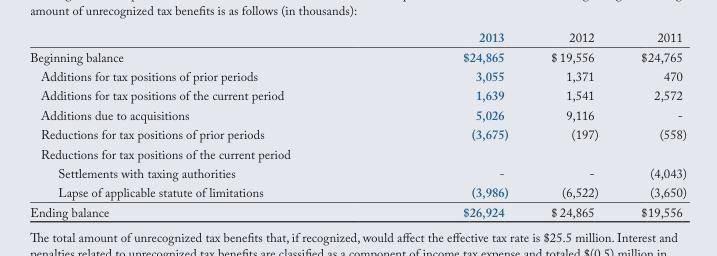table: (29, 28, 685, 224)
table column: (29, 28, 372, 224), (372, 28, 529, 224), (529, 28, 619, 224), (619, 28, 685, 224)
table column header: (29, 28, 685, 49)
table projected row header: (29, 145, 685, 165)
table row: (29, 28, 685, 49), (29, 87, 685, 107), (29, 145, 685, 165), (29, 184, 685, 204), (29, 204, 685, 224), (29, 49, 685, 68), (29, 68, 685, 87), (29, 107, 685, 126), (29, 126, 685, 145), (29, 165, 685, 184)
